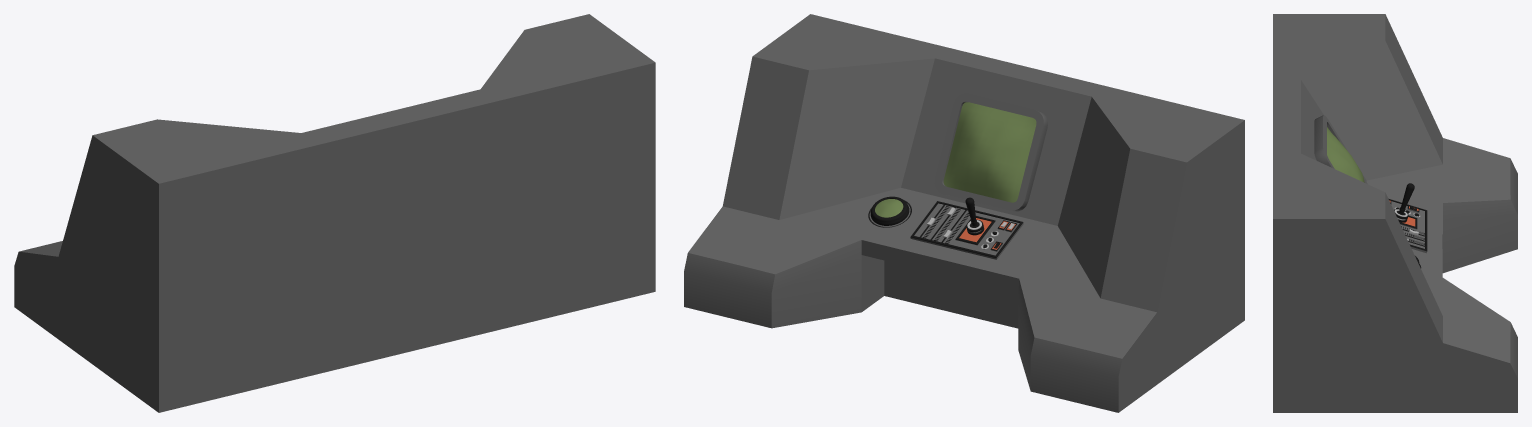
Rendered from ControlPanel.fbx.
The picture shows the model from 3 angles, left to right: view 1: azimuth 30°, elevation 25°; view 2: azimuth 150°, elevation 25°; view 3: azimuth 270°, elevation 25°; orthographic projection. The views are drawn at different scales.
Visible parts, largest first — view 1: ControlPanel; view 2: ControlPanel, Cube.041, Cube.032, Cube.044, Radar; view 3: ControlPanel, Cube.041, Cube.044, Cube.032.
Part boxes in pixels (x1=…): ControlPanel: x1=14, y1=14, x2=655, y2=412; ControlPanel: x1=684, y1=14, x2=1244, y2=412; Cube.041: x1=943, y1=102, x2=1036, y2=202; Cube.032: x1=934, y1=93, x2=1047, y2=211; Cube.044: x1=910, y1=201, x2=1023, y2=259; Radar: x1=870, y1=196, x2=909, y2=225; ControlPanel: x1=1273, y1=14, x2=1517, y2=412; Cube.041: x1=1327, y1=127, x2=1364, y2=182; Cube.044: x1=1388, y1=198, x2=1427, y2=253; Cube.032: x1=1314, y1=115, x2=1367, y2=183.
Size of the model in its own units: 310 by 137 by 157.
